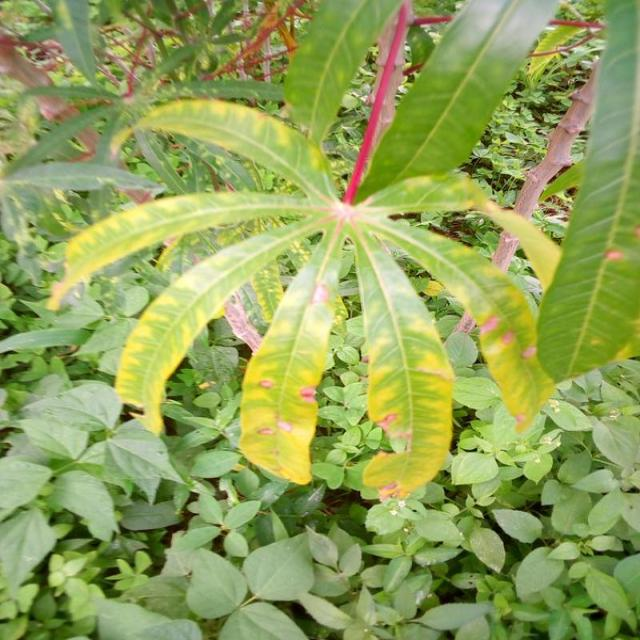cassava leaf: (47, 0, 570, 500), (534, 0, 638, 386), (237, 244, 343, 486)
